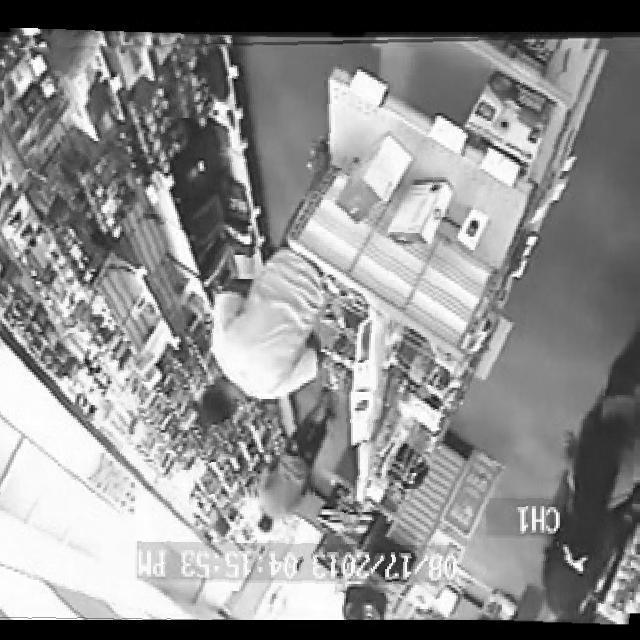Normal: (0, 34, 640, 620)
